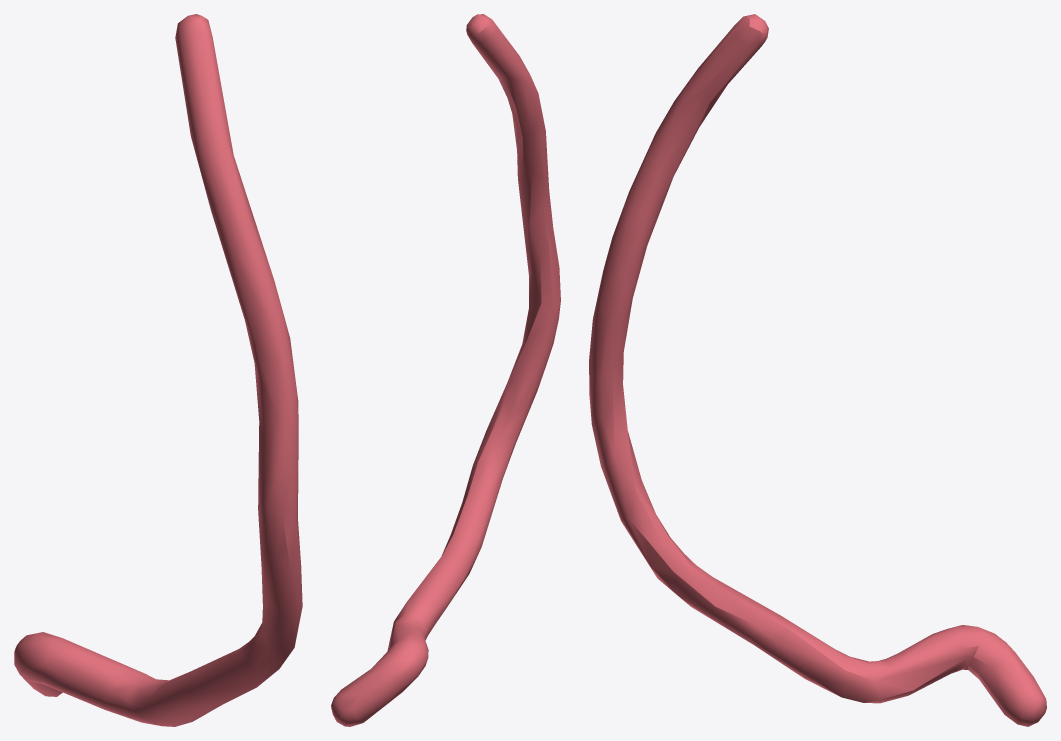
The model's file is fma50348_fj1676m.glb.
3 views of the same model, side by side, from view 1: azimuth 30°, elevation 25°; view 2: azimuth 150°, elevation 25°; view 3: azimuth 270°, elevation 25° (orthographic). The views are drawn at different scales.
Parts seen in each view (by area): view 1: FMA50348_FJ1676M; view 2: FMA50348_FJ1676M; view 3: FMA50348_FJ1676M.
Boxes of the visible parts, left/top/right/bottom form: FMA50348_FJ1676M: left=14, top=14, right=302, bottom=726; FMA50348_FJ1676M: left=331, top=14, right=560, bottom=726; FMA50348_FJ1676M: left=589, top=14, right=1046, bottom=726.
Bounding box in the file's own units: 0.00549 × 0.0427 × 0.0252.
